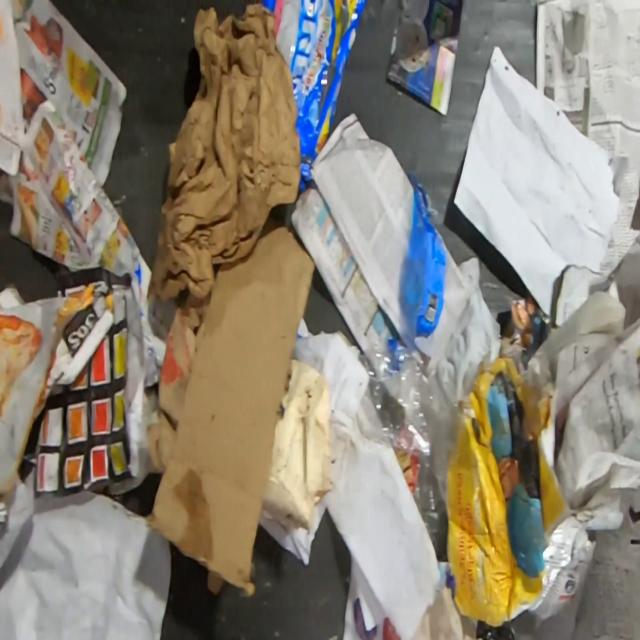cardboard: (148, 209, 316, 596), (436, 358, 570, 625), (258, 357, 336, 529), (146, 291, 211, 472), (207, 569, 222, 593)
rigid_plastic: (357, 172, 458, 561)
soft_plastic: (261, 0, 367, 198)
